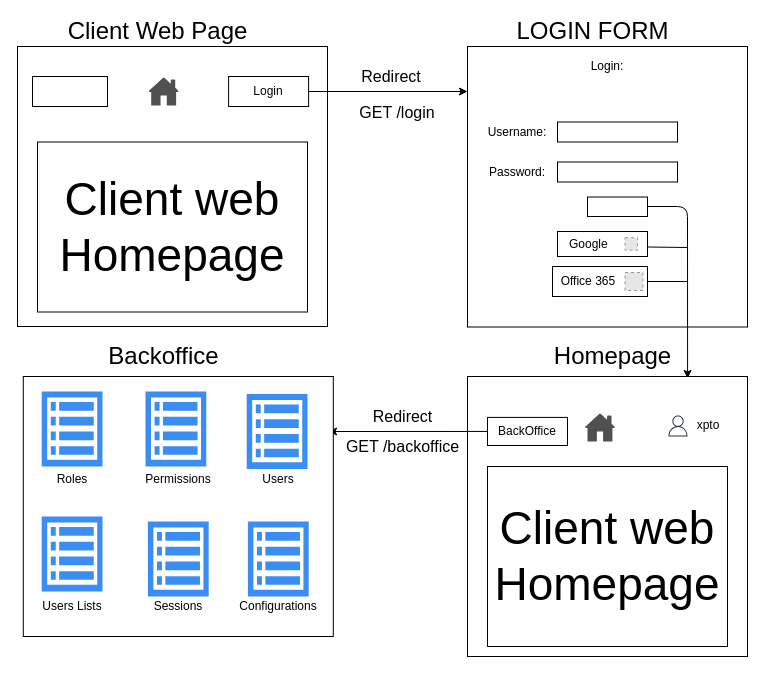
Image size: 765x674. Some labels were removed from this diagram. Grey dashed boxes stand in for pictures. The centre of each missing label's shape, as x and y in pixels:
Register: [70,91]
Submit: [617,206]
